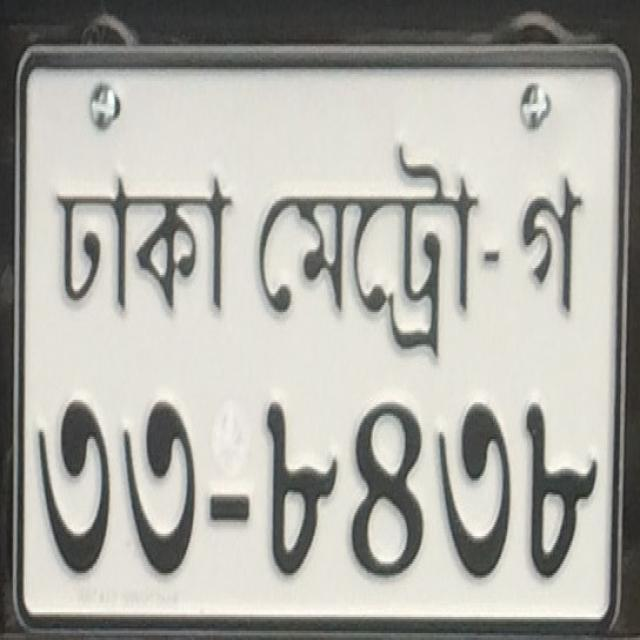numberplate: (6, 37, 633, 634)
